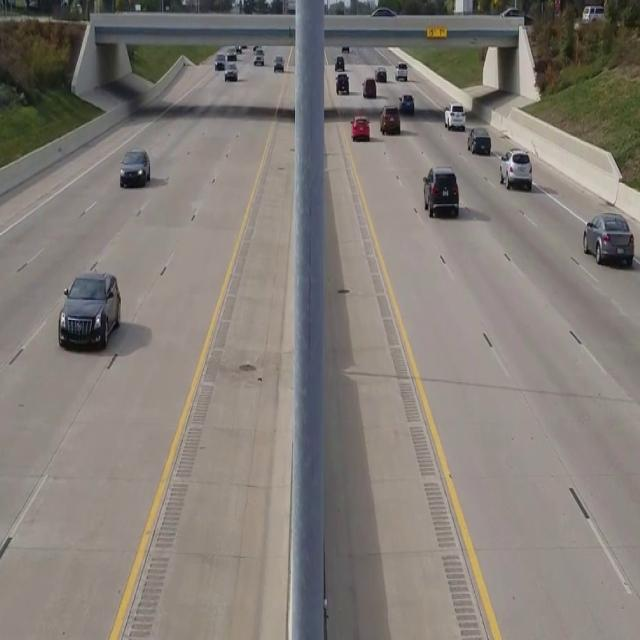car: (58, 270, 120, 350), (582, 212, 634, 268), (422, 167, 459, 217), (499, 148, 532, 189), (119, 149, 150, 187), (352, 114, 369, 140)
